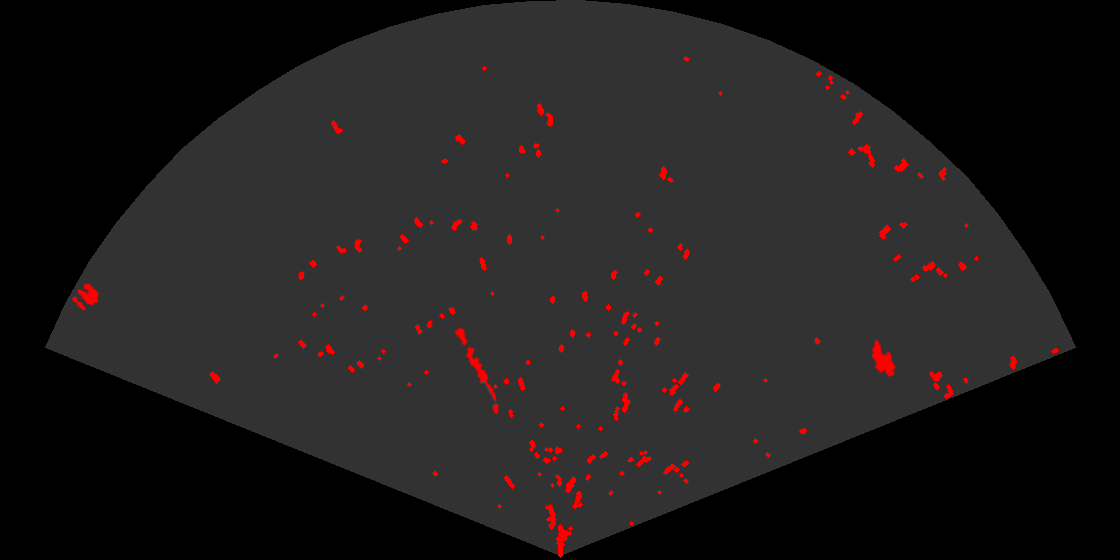AUV: (870, 338, 897, 379)
ball: (70, 282, 100, 312)
chain: (451, 318, 501, 416)
